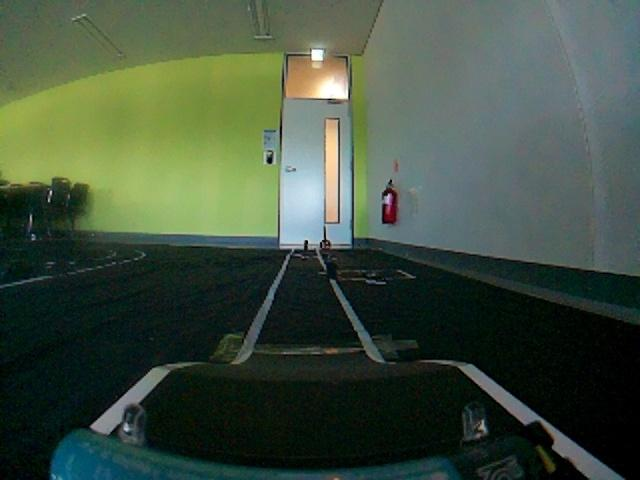go: (11, 370, 618, 480)
hill_down: (97, 250, 503, 363)
